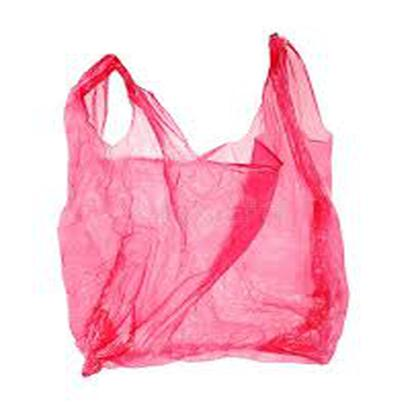plastic bag: (56, 33, 350, 377)
